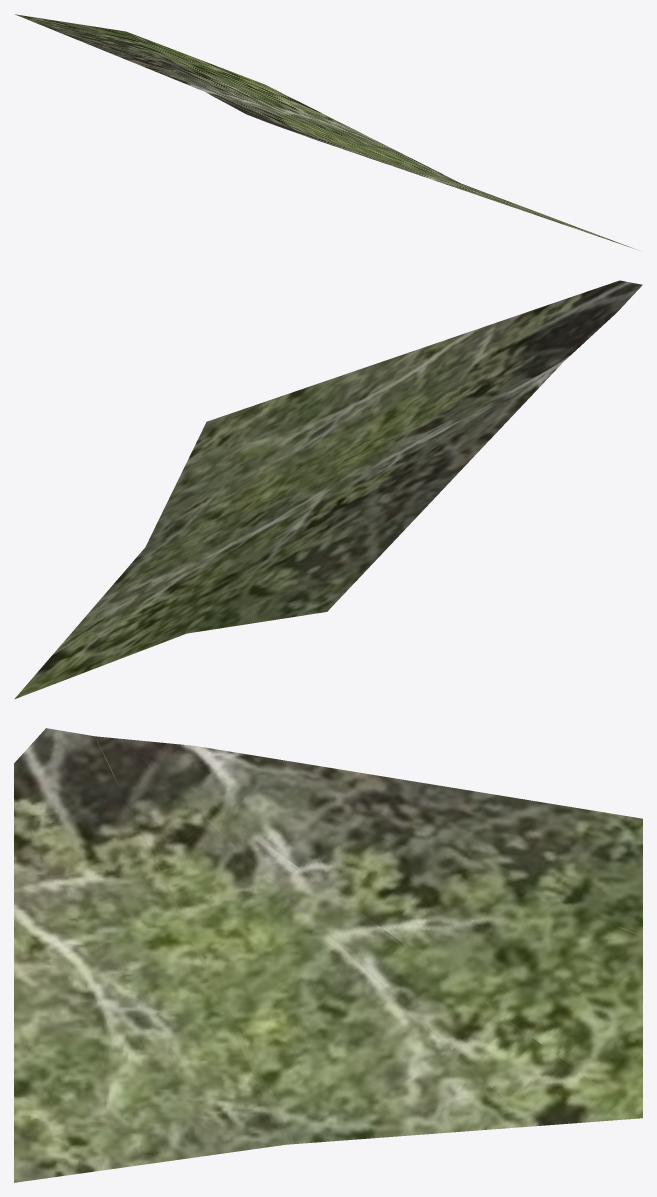
3 renders of one model, top to bottom at view 1: azimuth 30°, elevation 25°; view 2: azimuth 150°, elevation 25°; view 3: azimuth 270°, elevation 25°, orthographic. The views are drawn at different scales.
Bounding box in the file's own units: 2.32 × 1.27 × 2.95.
Materials: 2 (2 with a texture image).
